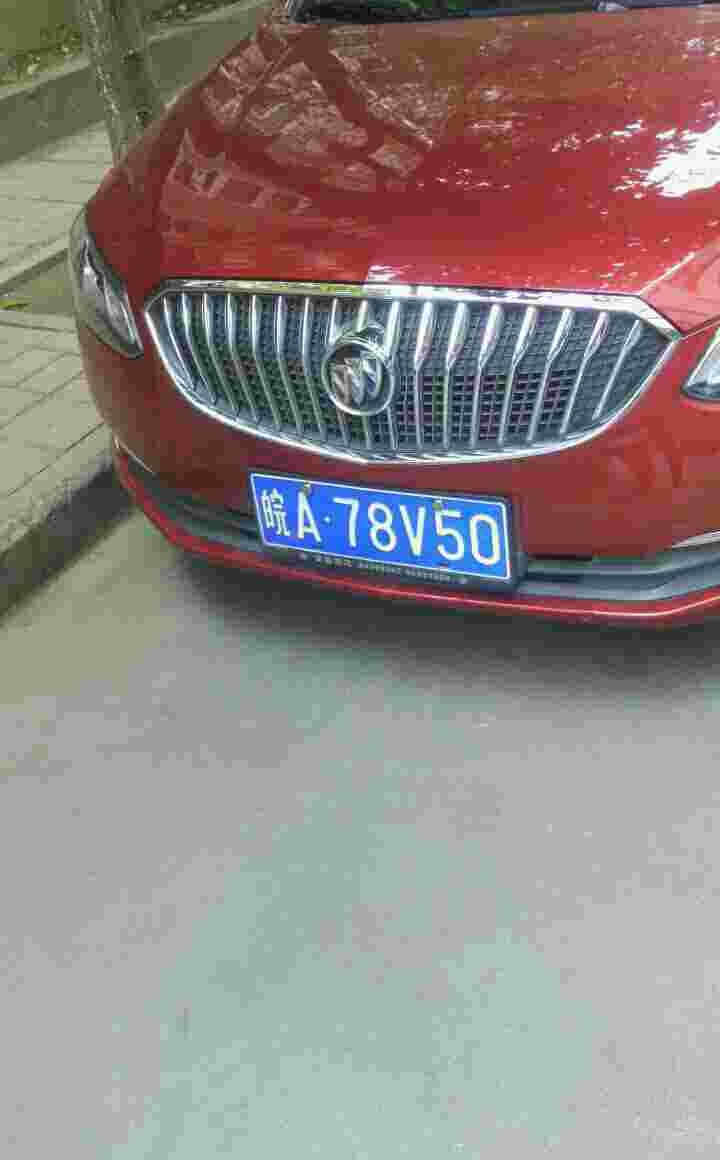license_plate: (260, 477, 504, 586)
